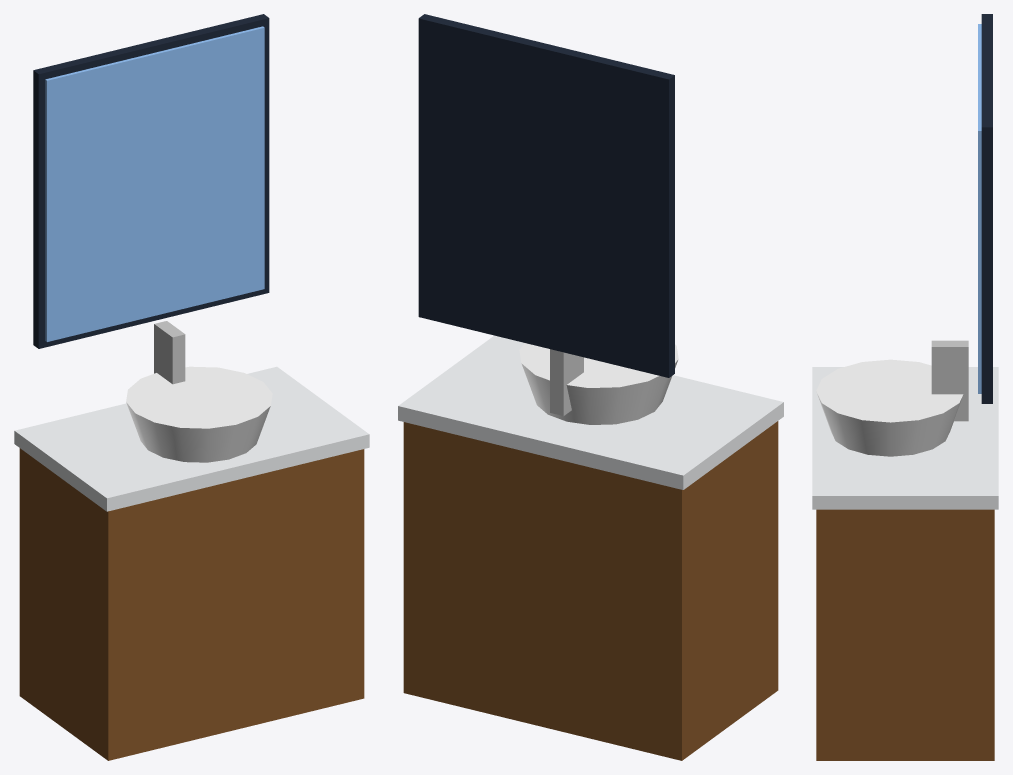
Rendered from sink_cabinet_bath.glb.
3 views of the same model, side by side, from view 1: azimuth 30°, elevation 25°; view 2: azimuth 150°, elevation 25°; view 3: azimuth 270°, elevation 25° (orthographic). The views are drawn at different scales.
Visible parts, largest first — view 1: sink_cabinet_bath; view 2: sink_cabinet_bath; view 3: sink_cabinet_bath.
Part boxes in pixels (x1,y1,x2,y2): sink_cabinet_bath: (14,14,369,760); sink_cabinet_bath: (398,14,783,760); sink_cabinet_bath: (812,14,998,760).
Bounding box in the file's own units: 0.82 × 1.86 × 0.5.
